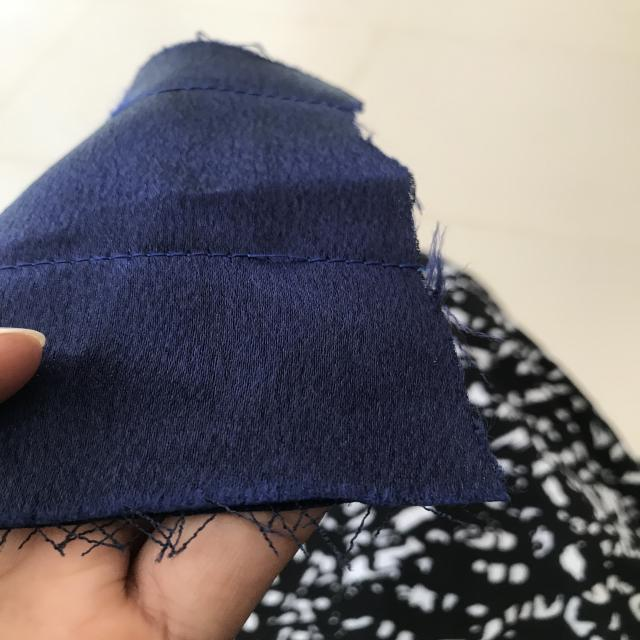skip: (236, 229, 325, 280)
